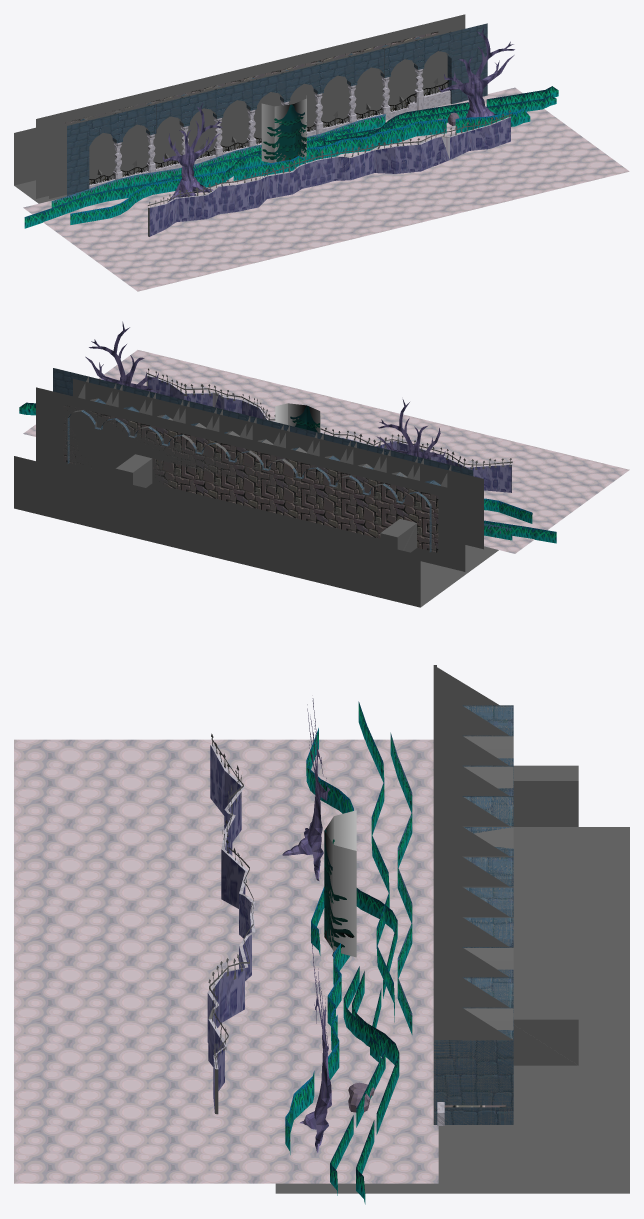
Rendered from jin_02_bake_split.dae.
3 renders of one model, top to bottom at view 1: azimuth 30°, elevation 25°; view 2: azimuth 150°, elevation 25°; view 3: azimuth 270°, elevation 25°, orthographic. The views are drawn at different scales.
Visible parts, largest first — view 1: pPlane365_q093, a_gawa01, polySurface1010, polySurface972_q079_part0, a_gawa02, polySurface993_q105, polySurface993_q099, polySurface995_q096, polySurface995_q103, polySurface952_q082, pPlane369, polySurface952_q092 (+16 smaller); view 2: pPlane369, a_gawa02, pPlane365_q093, pPlane366, a_gawa01, polySurface1010, polySurface972_q079_part0, polySurface972_q079_part1, polySurface952_q082, polySurface952_q092, bero_part0, pCylinder29_q100_VC (+3 smaller); view 3: pPlane365_q093, pPlane369, a_gawa01, polySurface1010, bero_part0, polySurface972_q079_part0, pCylinder29_q100_VC, polySurface993_q105, polySurface993_q102, polySurface995_q103, polySurface993_q106, polySurface995_q096 (+10 smaller).
Part boxes in pixels (x1,y1,x2,y2): pPlane365_q093: (23, 87, 629, 291); a_gawa01: (49, 28, 459, 198); polySurface1010: (67, 23, 487, 195); polySurface972_q079_part0: (149, 117, 510, 236); a_gawa02: (36, 14, 465, 198); polySurface993_q105: (303, 109, 530, 162); polySurface993_q099: (70, 156, 304, 224); polySurface995_q096: (24, 128, 354, 228); polySurface995_q103: (51, 115, 385, 207); polySurface952_q082: (438, 25, 514, 117); pPlane369: (14, 127, 66, 203); polySurface952_q092: (163, 102, 222, 201); pPlane369: (14, 456, 498, 607); a_gawa02: (36, 387, 465, 571); pPlane365_q093: (23, 350, 629, 553); pPlane366: (63, 406, 438, 552); a_gawa01: (67, 377, 483, 551); polySurface1010: (53, 368, 473, 552); polySurface972_q079_part0: (148, 376, 511, 492); polySurface972_q079_part1: (146, 368, 512, 492); polySurface952_q082: (85, 321, 160, 393); polySurface952_q092: (376, 399, 445, 458); bero_part0: (115, 463, 416, 548); pCylinder29_q100_VC: (275, 403, 320, 432); pPlane365_q093: (14, 739, 438, 1183); pPlane369: (275, 827, 629, 1193); a_gawa01: (433, 665, 513, 1124); polySurface1010: (434, 705, 513, 1124); bero_part0: (513, 765, 578, 1065); polySurface972_q079_part0: (207, 745, 251, 1112); pCylinder29_q100_VC: (324, 810, 356, 957); polySurface993_q105: (285, 944, 349, 1154); polySurface993_q102: (352, 973, 399, 1204); polySurface995_q103: (390, 733, 412, 1034); polySurface993_q106: (330, 966, 385, 1195); polySurface995_q096: (358, 703, 394, 1022).
Bounding box in the file's own units: 158 × 36.64 × 84.94.
